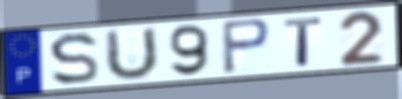2: (338, 9, 387, 69)
9: (167, 23, 211, 77)
P: (219, 17, 273, 76)
S: (46, 31, 100, 87)
T: (281, 16, 326, 68)
U: (102, 25, 161, 83)
